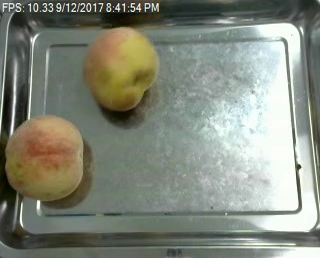Peach: (3, 115, 85, 203), (85, 26, 161, 112)
